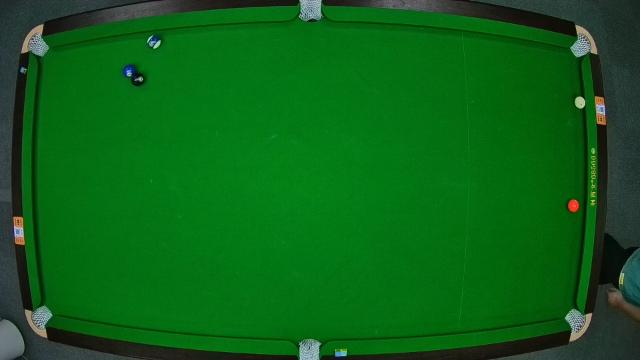bag1: (27, 34, 46, 54)
bag2: (298, 1, 324, 22)
bag3: (573, 36, 591, 56)
bag4: (29, 308, 51, 328)
bag5: (298, 342, 320, 360)
bag6: (564, 310, 584, 332)
ball0: (574, 95, 588, 109)
ball10: (146, 34, 162, 50)
ball2: (122, 63, 138, 78)
ball5: (568, 198, 580, 214)
ball8: (132, 71, 146, 87)
